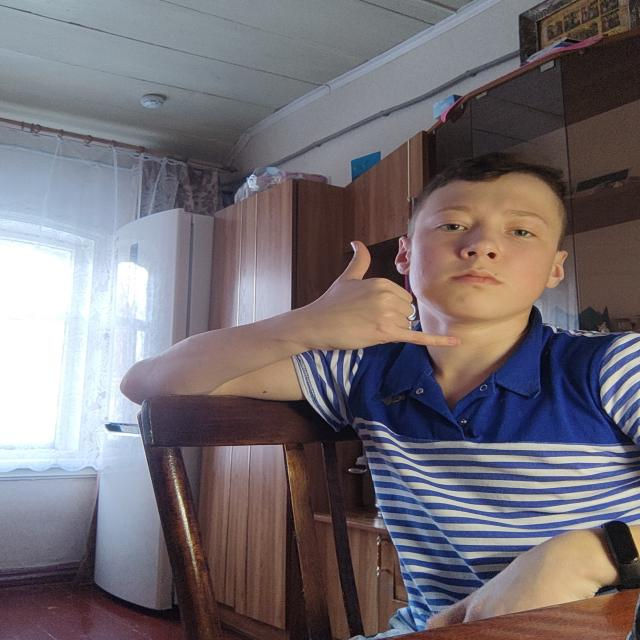call: (305, 234, 469, 354)
